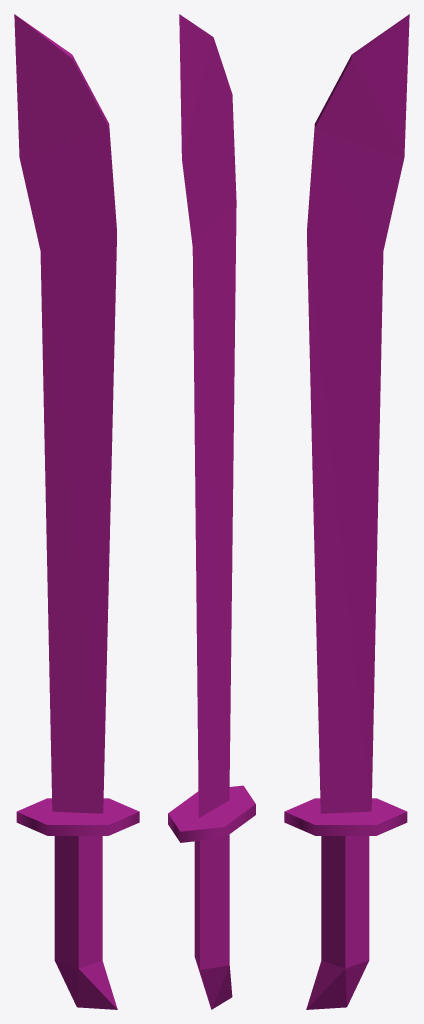
Rendered from chin_jian.dae.
3 views of the same model, side by side, from view 1: azimuth 90°, elevation 25°; view 2: azimuth 150°, elevation 25°; view 3: azimuth 270°, elevation 25° (orthographic). The views are drawn at different scales.
Visible parts, largest first — view 1: Plane01_PIVOT; view 2: Plane01_PIVOT; view 3: Plane01_PIVOT.
Boxes of the visible parts, left/top/right/bottom form: Plane01_PIVOT: left=14, top=14, right=139, bottom=1009; Plane01_PIVOT: left=168, top=14, right=255, bottom=1009; Plane01_PIVOT: left=284, top=14, right=409, bottom=1009.
Size of the model in its own units: 3.72 by 7.38 by 64.76.
